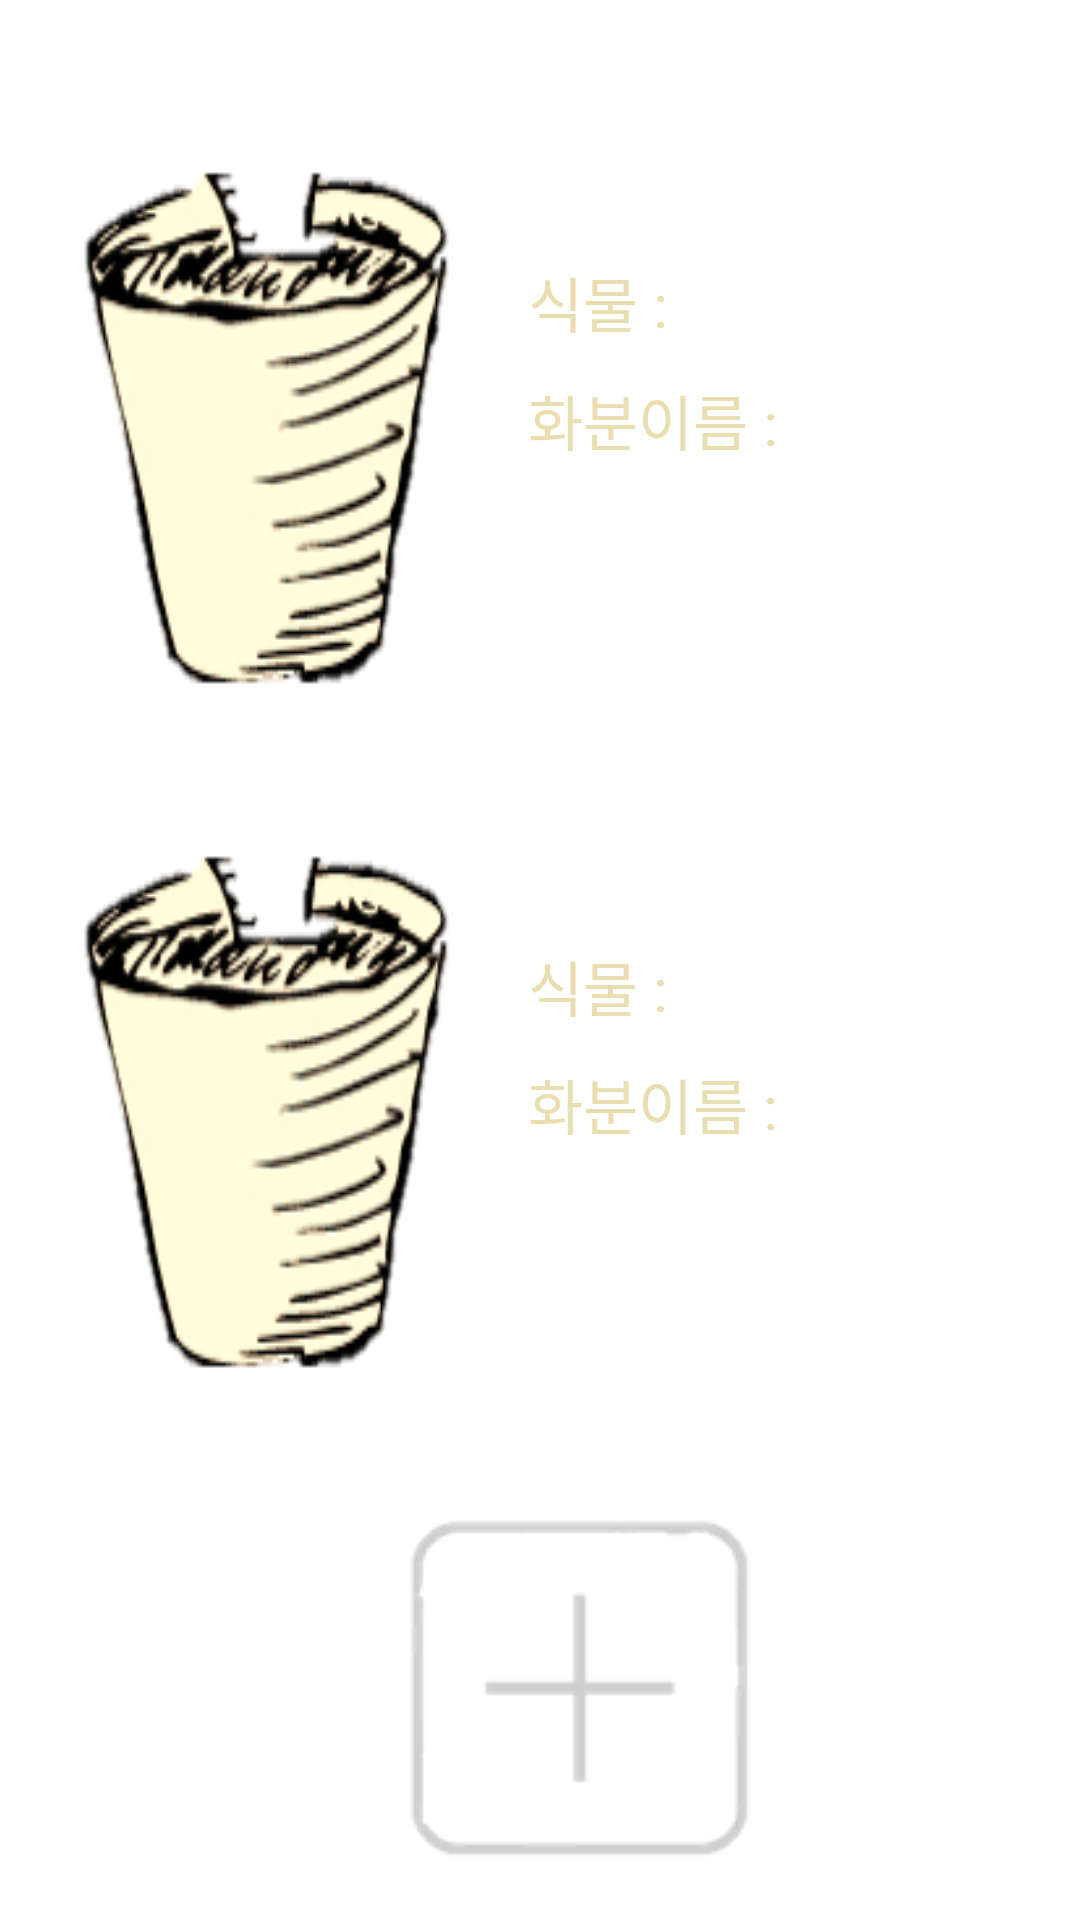

Where icons sit on this 1080px×1920px app screen, as (x1, y1, x2, y2):
plus: (412, 1522, 747, 1854)
